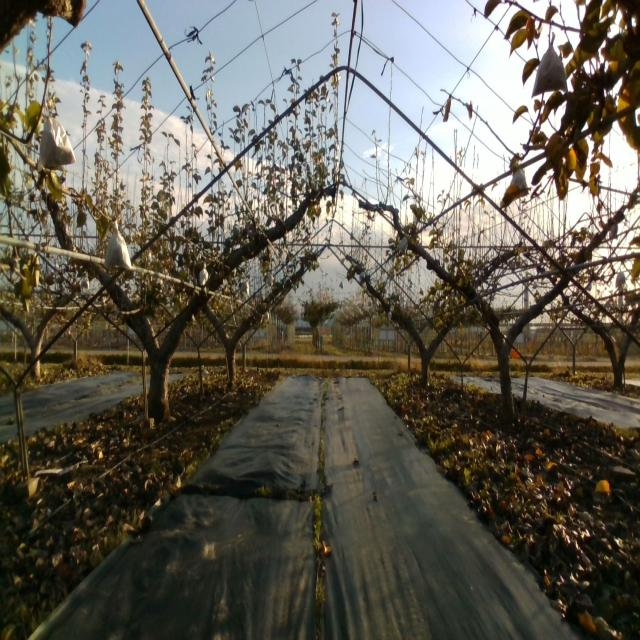pearbags: (530, 31, 568, 101), (36, 114, 76, 171), (104, 219, 132, 272), (510, 167, 528, 193), (398, 234, 408, 255)
